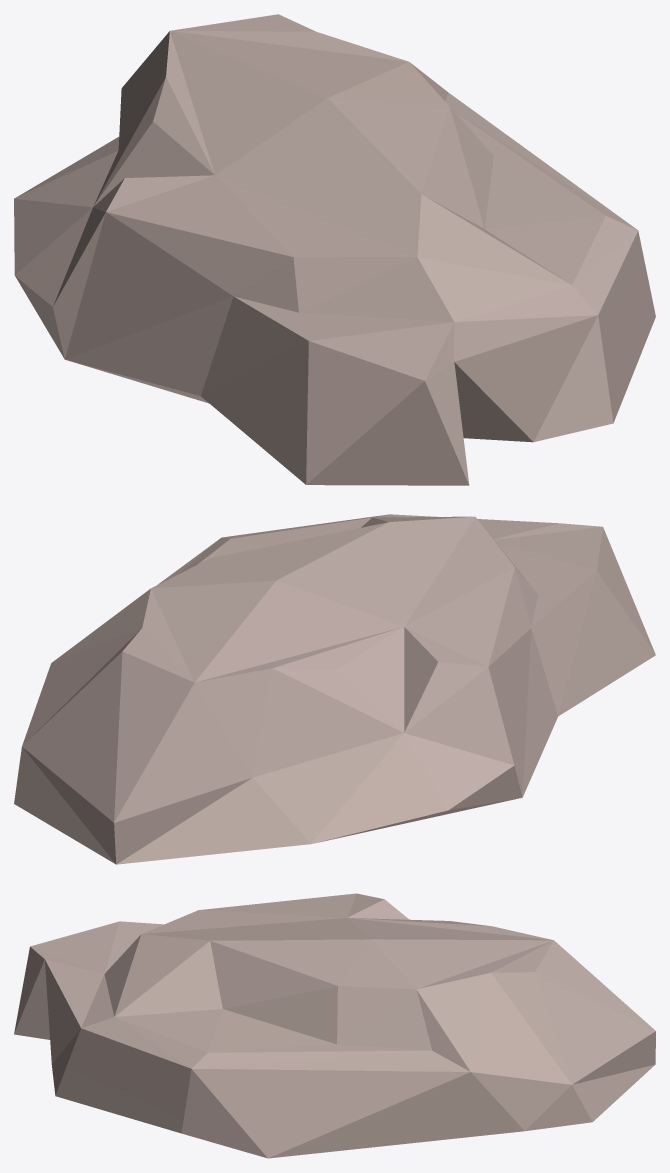
The model's file is rock_019.fbx.
3 views of the same model, one above another, from view 1: azimuth 30°, elevation 25°; view 2: azimuth 150°, elevation 25°; view 3: azimuth 270°, elevation 25° (orthographic). The views are drawn at different scales.
Visible parts, largest first — view 1: rock.019; view 2: rock.019; view 3: rock.019.
Boxes of the visible parts, <box> form: rock.019: <box>14,14,655,485</box>; rock.019: <box>14,514,655,864</box>; rock.019: <box>14,893,655,1158</box>.
Bounding box in the file's own units: 491 × 173 × 735.
1 material, 1 textured.
